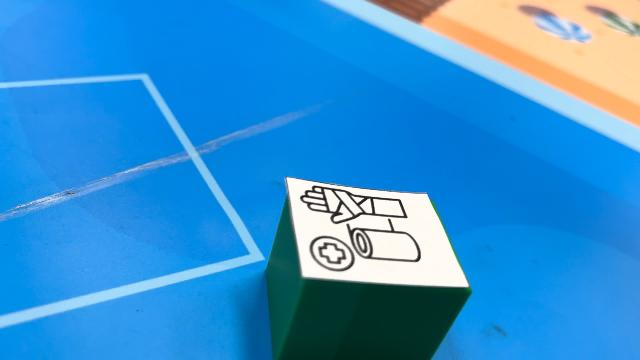bandage: (266, 177, 472, 359)
